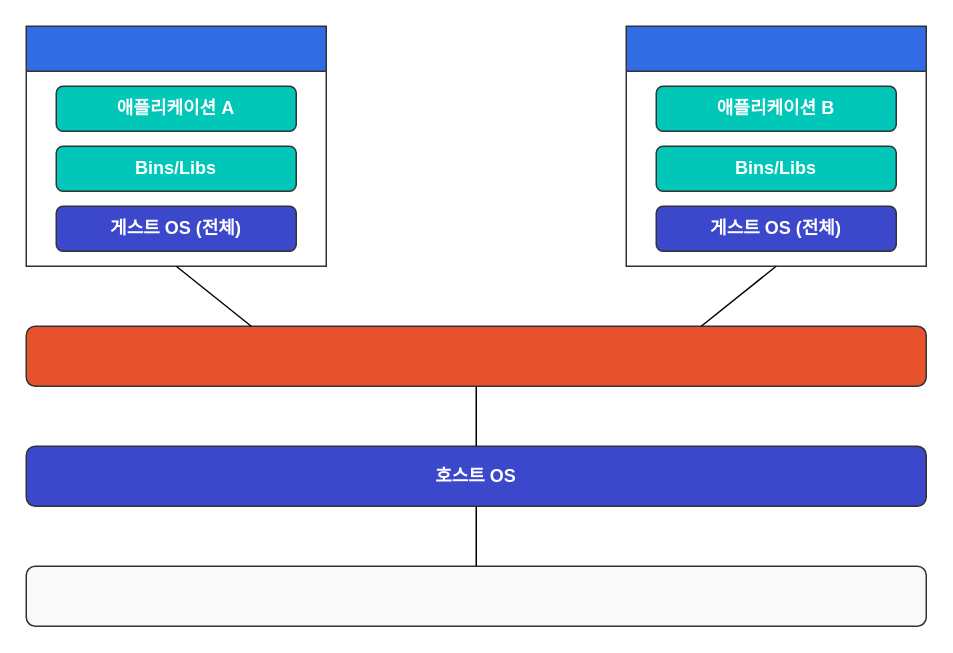
This 953x653 diagram has some shape labels left out. The shapes that lost their labels are listed below. From the top down, each one's box as (x1, y1, x2, y2) in pixels, then its label:
(25, 25, 326, 266): 가상 머신 1
(625, 25, 926, 266): 가상 머신 2
(25, 325, 926, 386): 하이퍼바이저
(25, 565, 926, 626): 하드웨어
